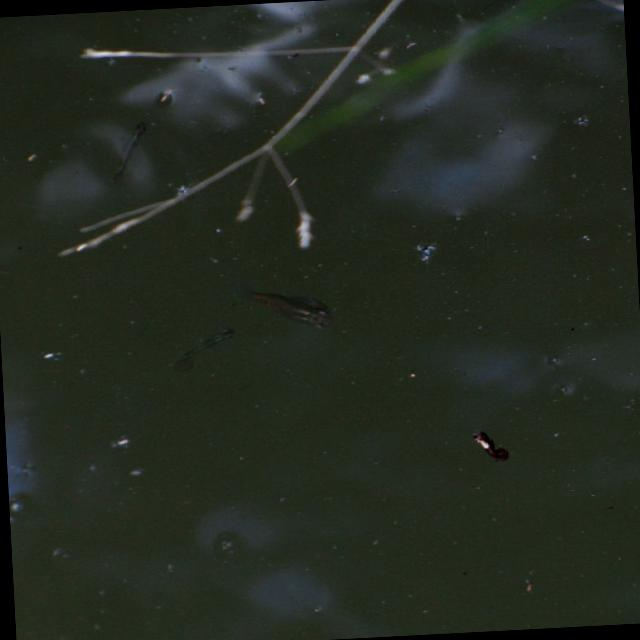Sivrisinek Baligi: (245, 282, 333, 336), (170, 321, 237, 374)
